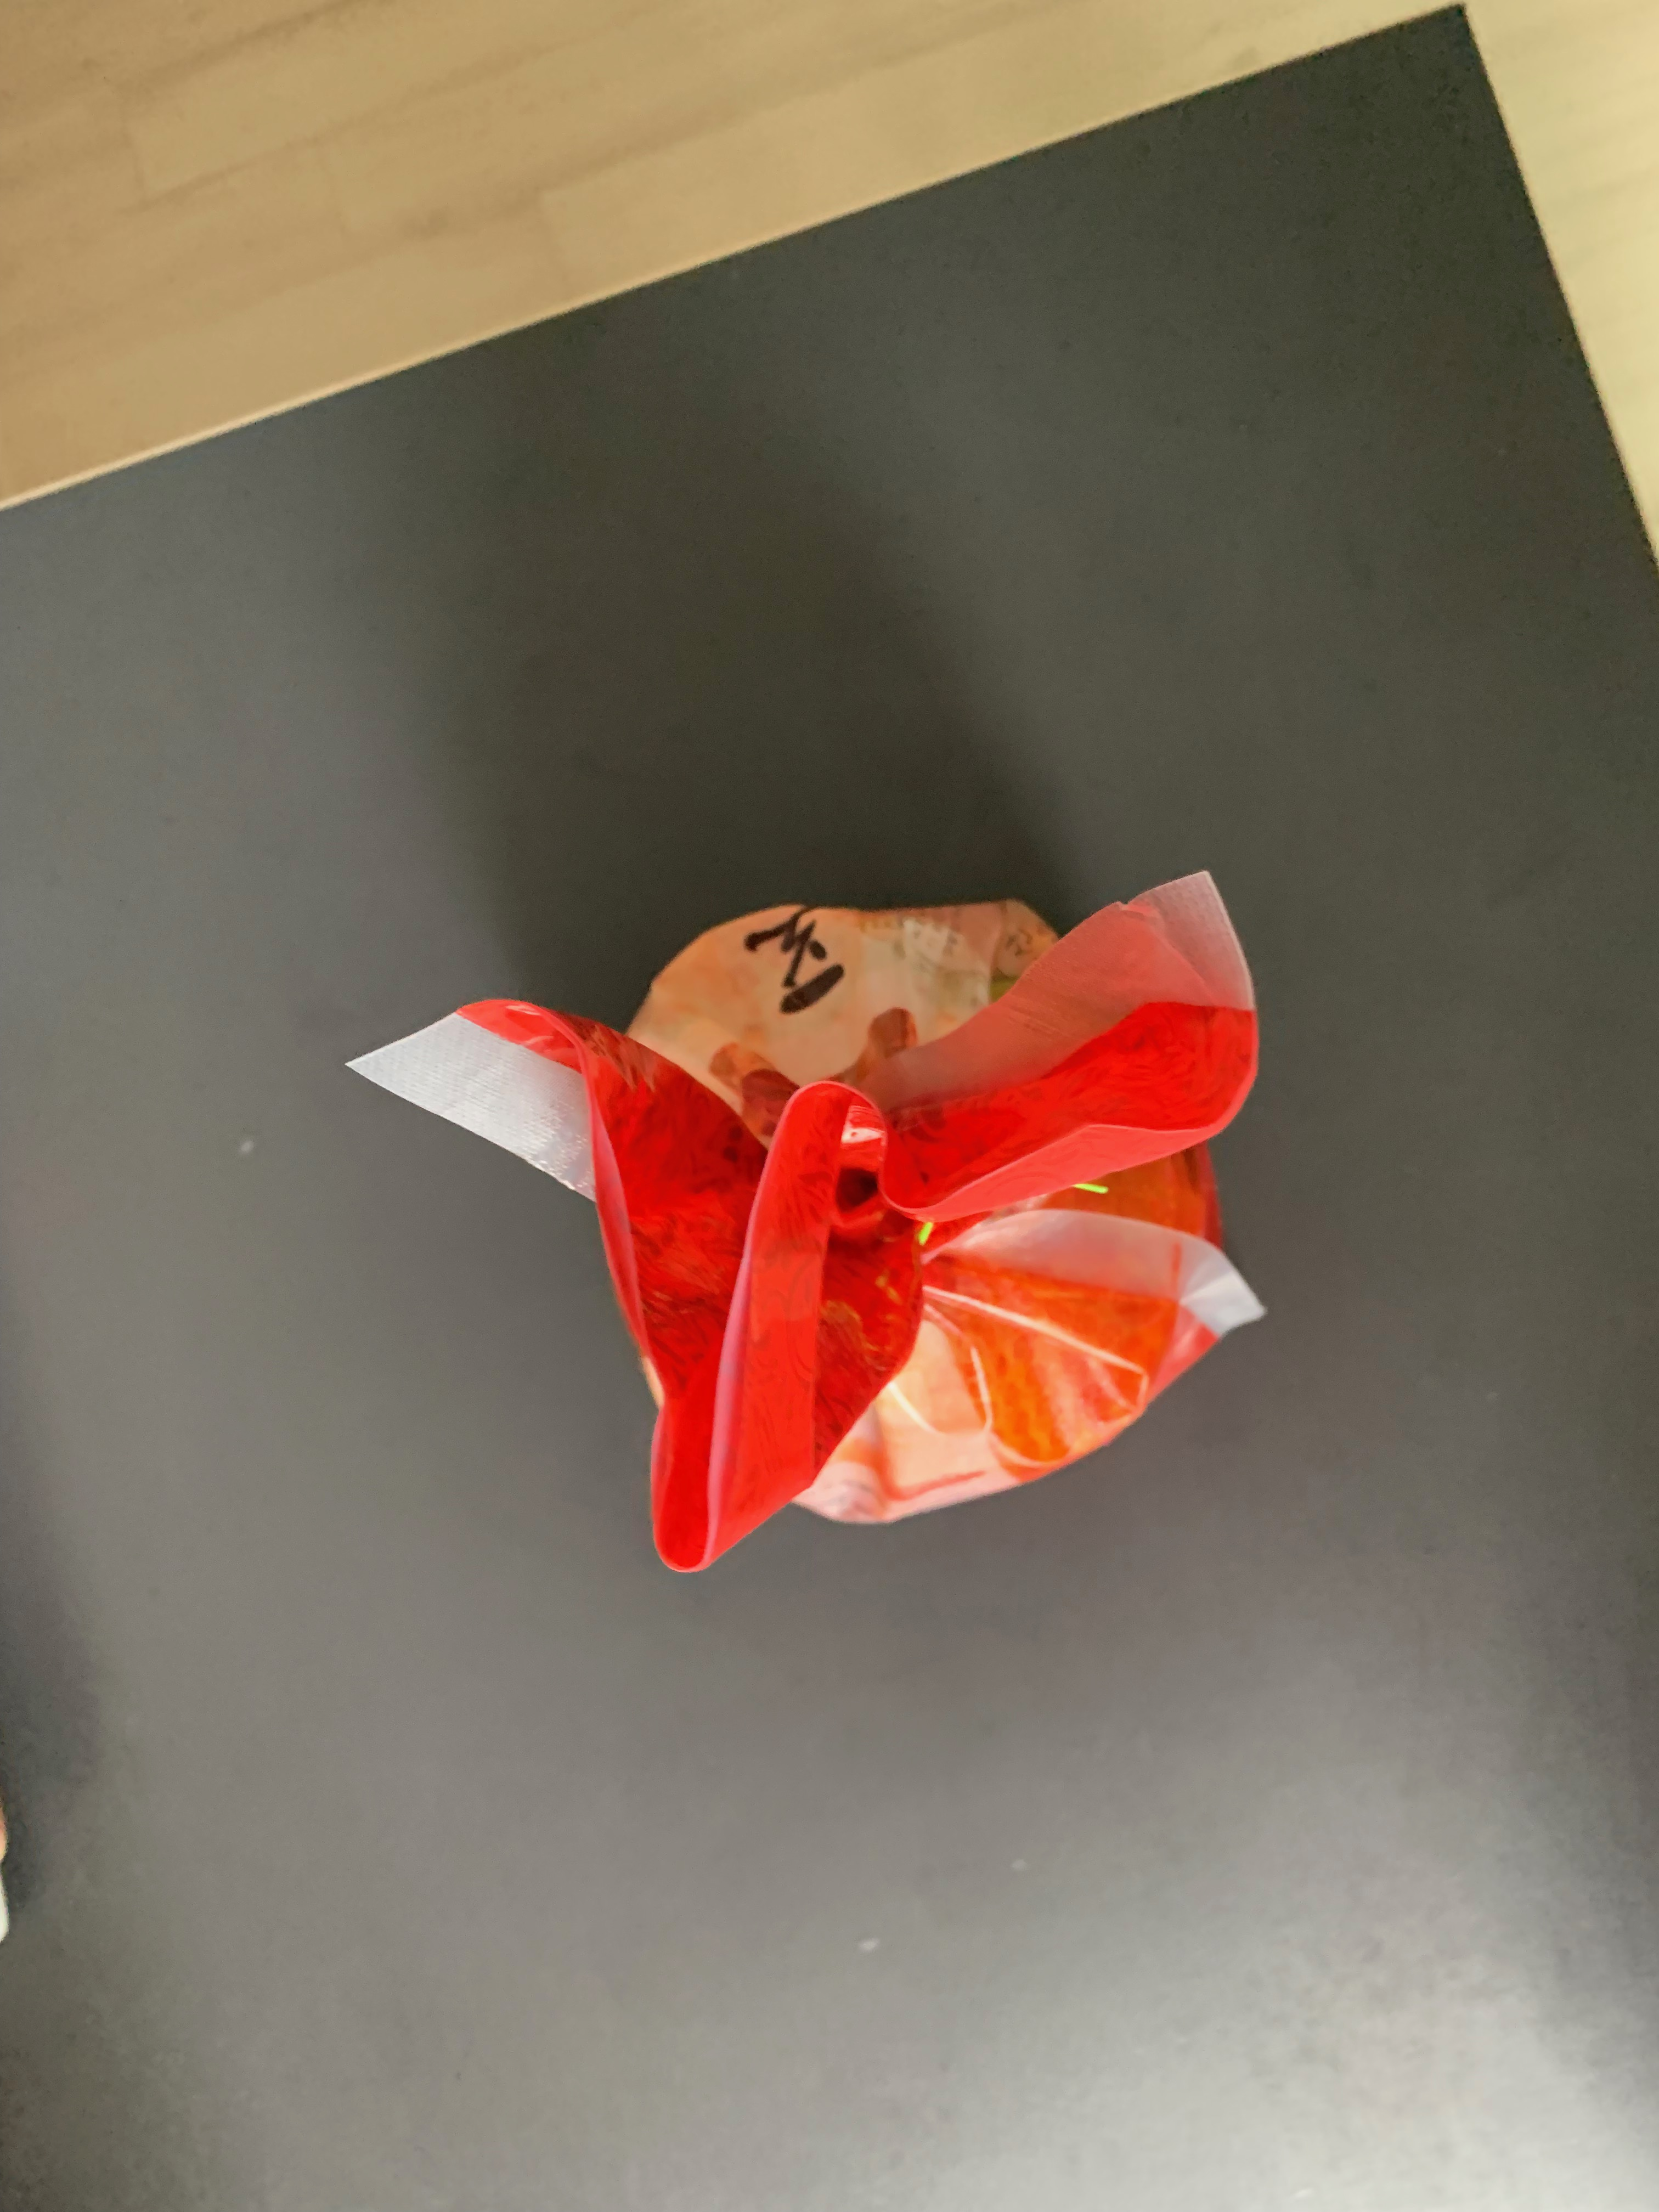kimchi: (457, 900, 1265, 1578)
